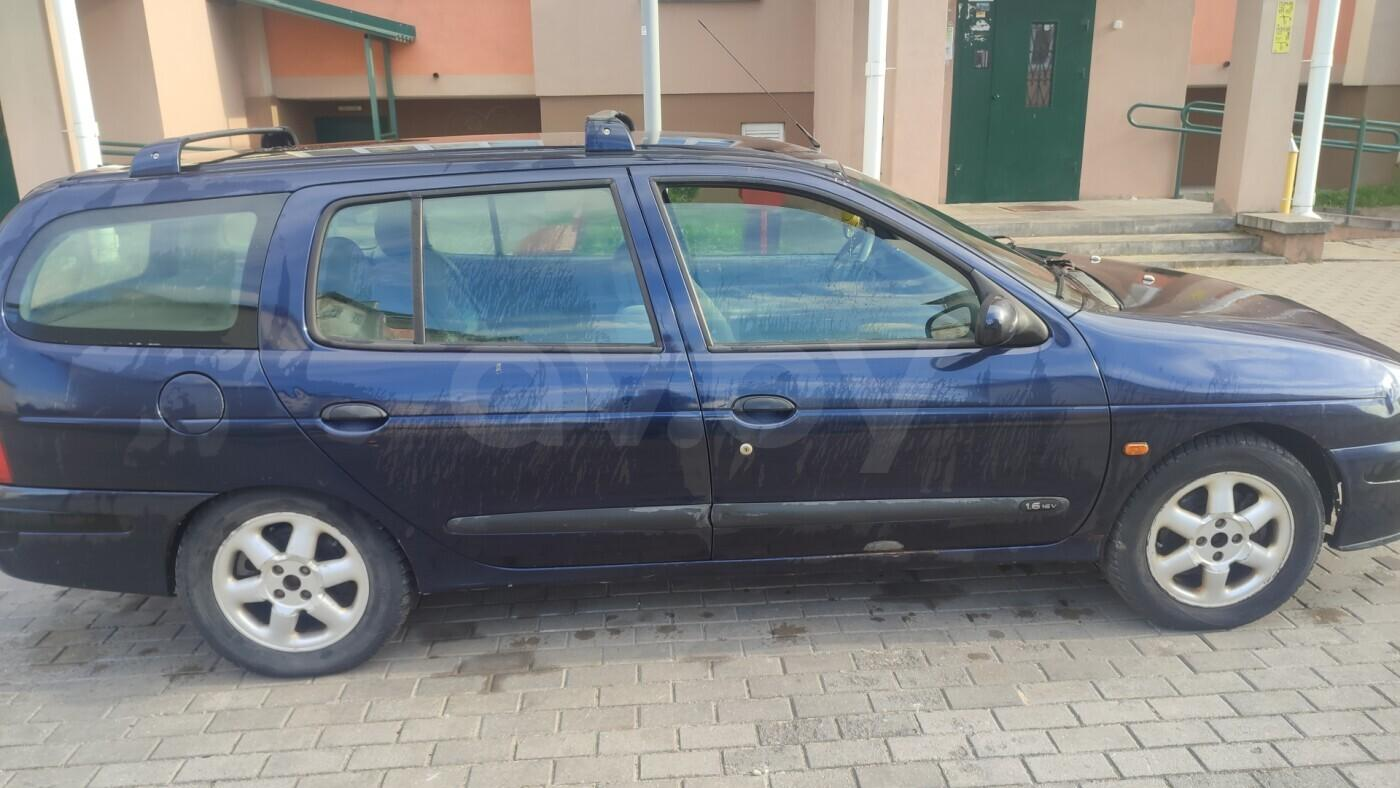Megane_1999-2003: (0, 136, 1400, 687)
